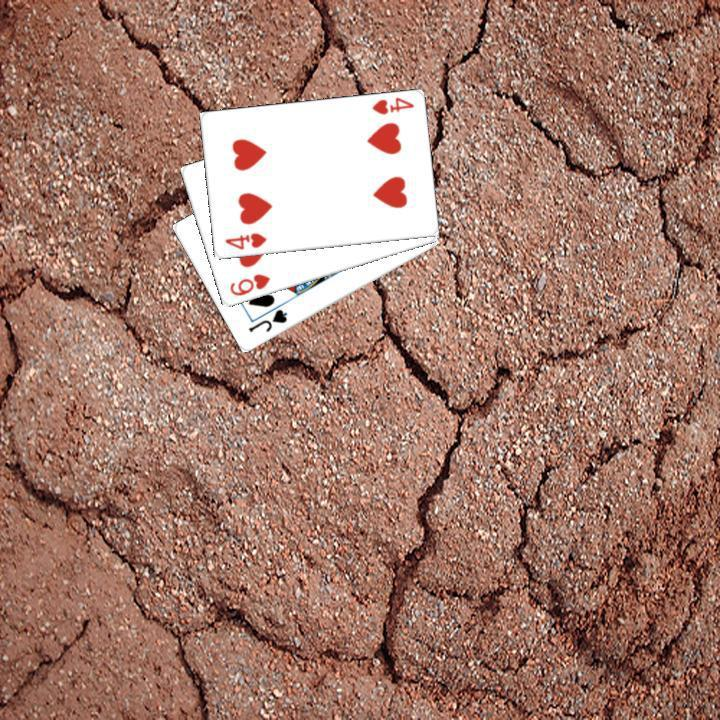4: (367, 93, 415, 117), (221, 229, 268, 252)
6: (225, 270, 272, 298)
J: (244, 305, 289, 334)
